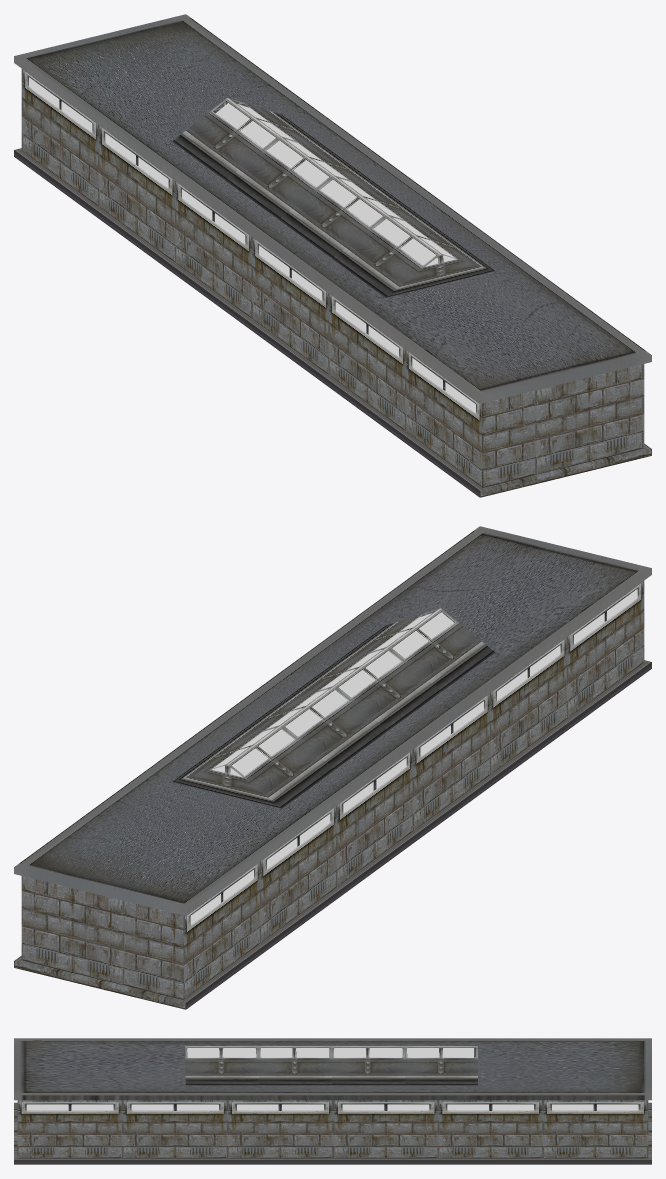
The model's file is s_admin_wing_hdtex.glb.
The picture shows the model from 3 angles, top to bottom: view 1: azimuth 30°, elevation 25°; view 2: azimuth 150°, elevation 25°; view 3: azimuth 270°, elevation 25°; orthographic projection. The views are drawn at different scales.
Parts seen in each view (by area): view 1: S_admin_wing, Litwin_S_admin_wing; view 2: S_admin_wing, Litwin_S_admin_wing; view 3: S_admin_wing, Litwin_S_admin_wing.
Part boxes in pixels (bbox=[...]): S_admin_wing: bbox=[14, 14, 651, 497]; Litwin_S_admin_wing: bbox=[29, 77, 475, 413]; S_admin_wing: bbox=[14, 526, 651, 1009]; Litwin_S_admin_wing: bbox=[190, 589, 637, 924]; S_admin_wing: bbox=[14, 1038, 651, 1164]; Litwin_S_admin_wing: bbox=[26, 1048, 638, 1110].
Size of the model in its own units: 11.39 by 8.29 by 53.45.
4 materials, 4 textured.
